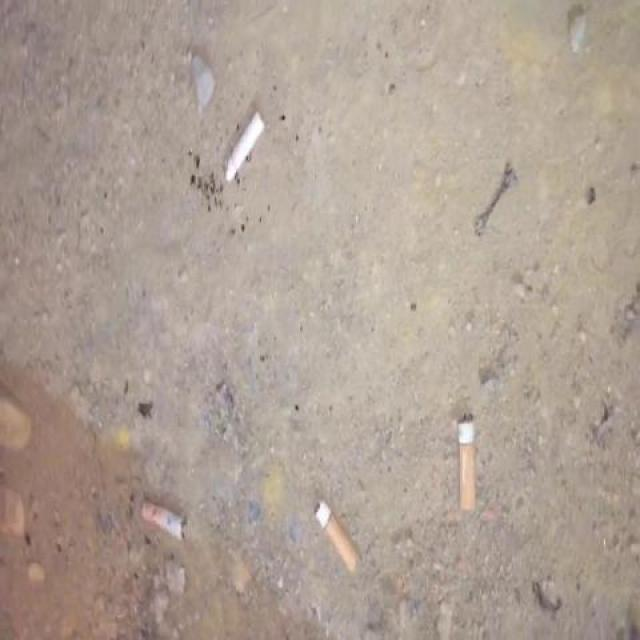non-organic waste: (311, 496, 368, 584), (218, 109, 270, 188), (453, 412, 480, 516), (140, 495, 193, 545)
